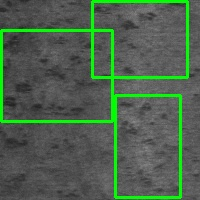rolled-in_scale: (1, 30, 112, 121), (92, 1, 187, 77), (115, 95, 180, 197)
